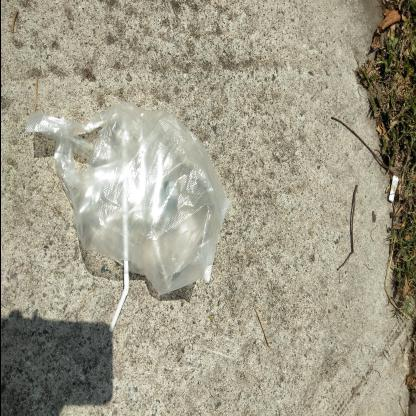plastik: (26, 102, 230, 296)
